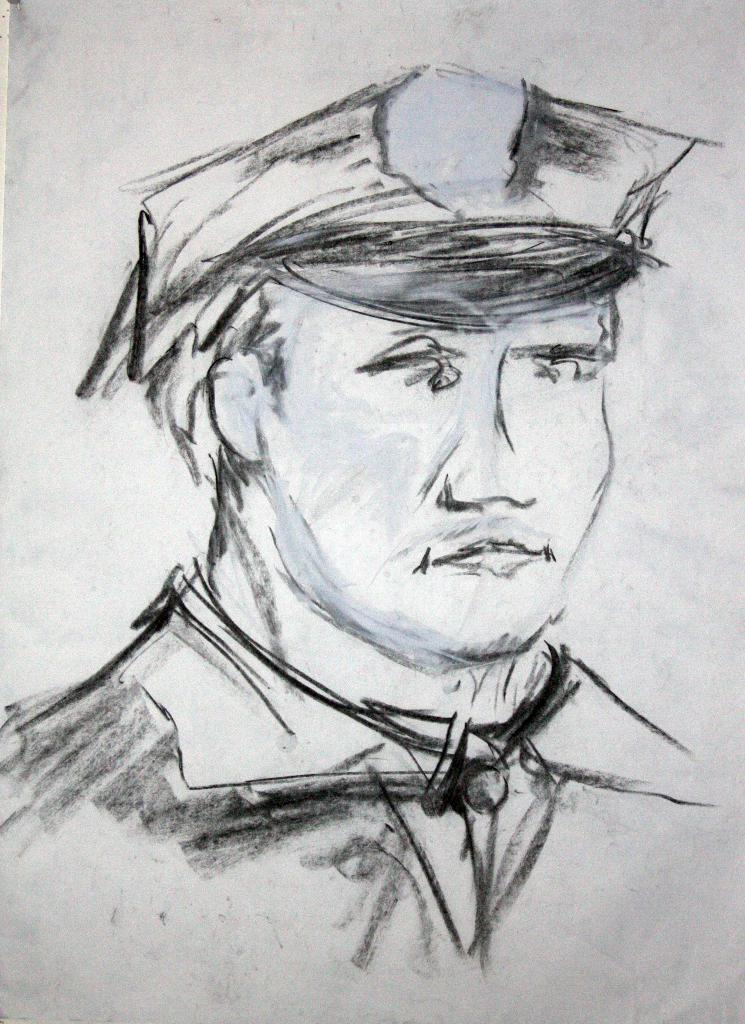Human-face: (270, 301, 614, 665)
